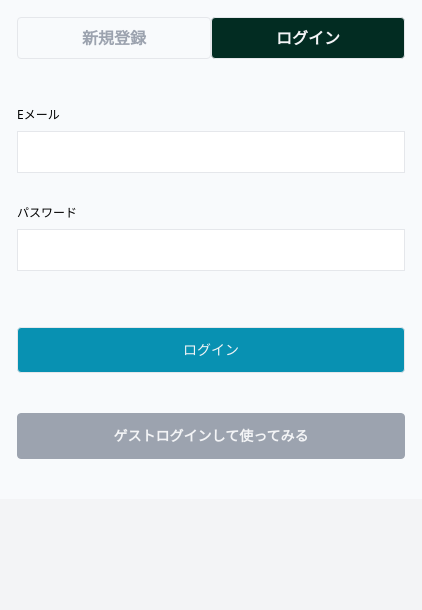
Test: 新規登録ボタンを押すと、画面が切り替わること
Click the button "新規登録" at (114, 38), box [17,17,211,59]
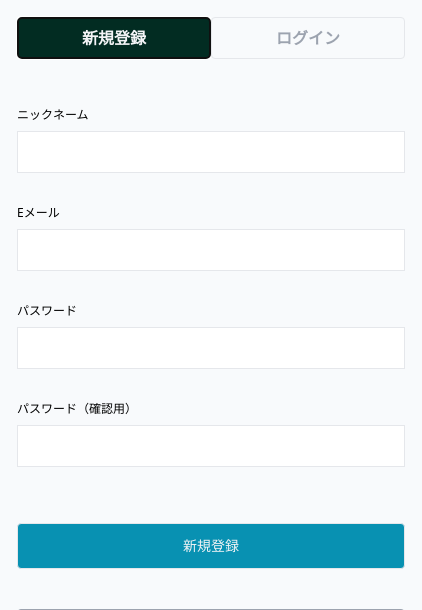
expect the password field labelled "パスワード（確認用）" is shown: met, box [17,425,405,467]
